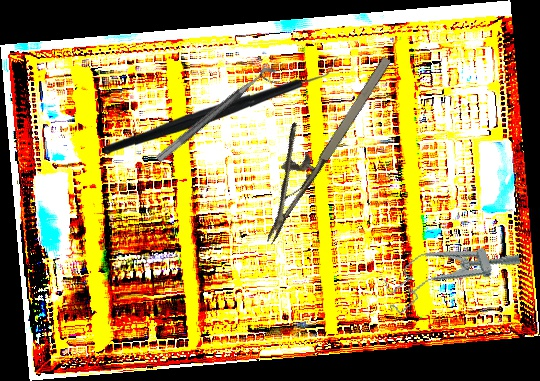Chopper: (104, 51, 338, 159)
Fixation Ring: (154, 62, 284, 173)
Needle Holder: (228, 35, 398, 246)
Speculum: (377, 225, 525, 317)
